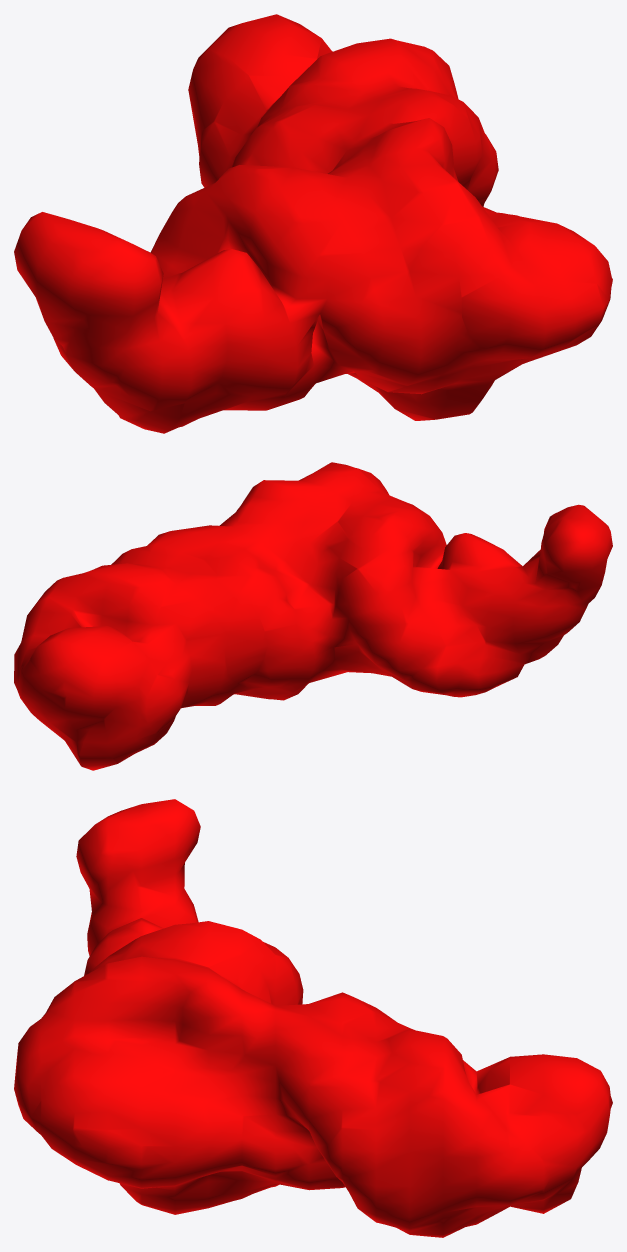
Rendered from onemer1TTT_rna.fbx.
3 renders of one model, top to bottom at view 1: azimuth 30°, elevation 25°; view 2: azimuth 150°, elevation 25°; view 3: azimuth 270°, elevation 25°, orthographic. The views are drawn at different scales.
Parts seen in each view (by area): view 1: CoarseMS_1tttBioSimp_Selection0; view 2: CoarseMS_1tttBioSimp_Selection0; view 3: CoarseMS_1tttBioSimp_Selection0.
Part boxes in pixels (x1,y1,x2,y2): CoarseMS_1tttBioSimp_Selection0: (14,14,612,433); CoarseMS_1tttBioSimp_Selection0: (14,462,612,770); CoarseMS_1tttBioSimp_Selection0: (14,799,612,1237).
Size of the model in its own units: 72.7 by 34.54 by 74.71.
